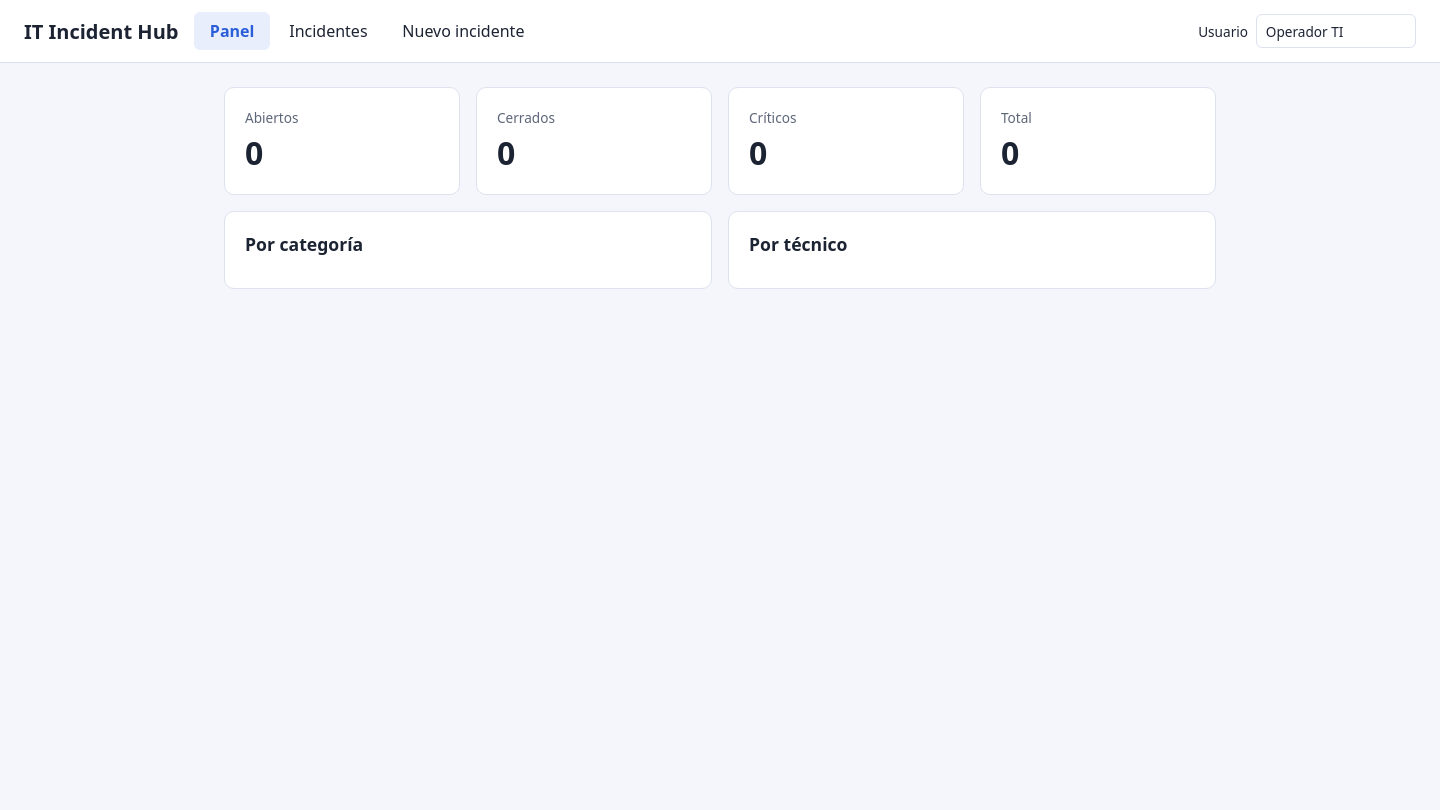
App › carga el panel y navega entre vistas
Check: the heading "IT Incident Hub" is shown, box [24,18,178,45]
Check: the text with test id "stat-open" is shown, box [245,131,263,174]
What coordinates should you click on to do the following:
click the button "Nuevo incidente"
I would click on:
 (463, 31)
Its box is [387,12,540,50].
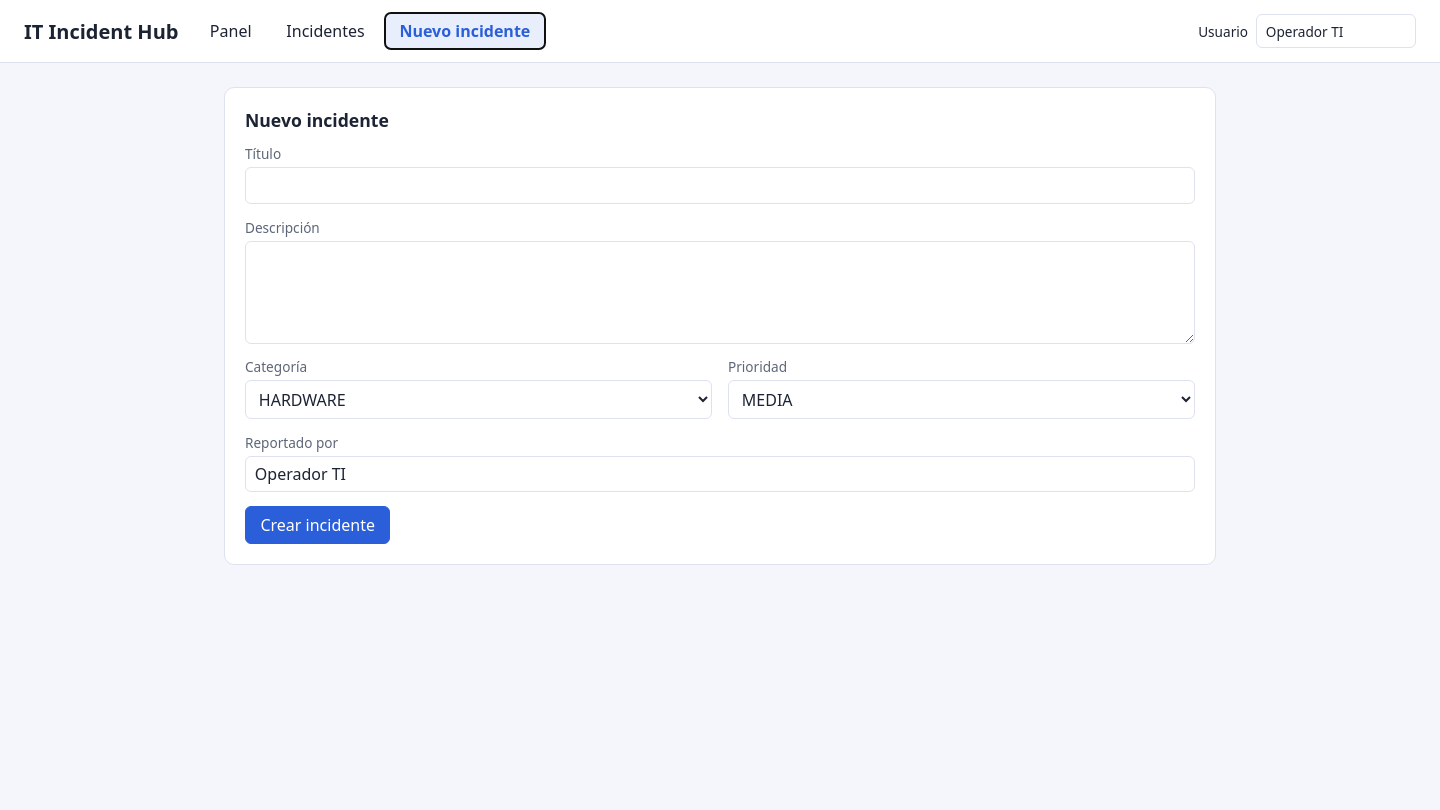
Check: the button "Crear incidente" is shown, box [245,506,390,544]
What coordinates should you click on to do the following:
click the button "Incidentes"
I would click on:
 (326, 31)
Its box is [271,12,380,50].
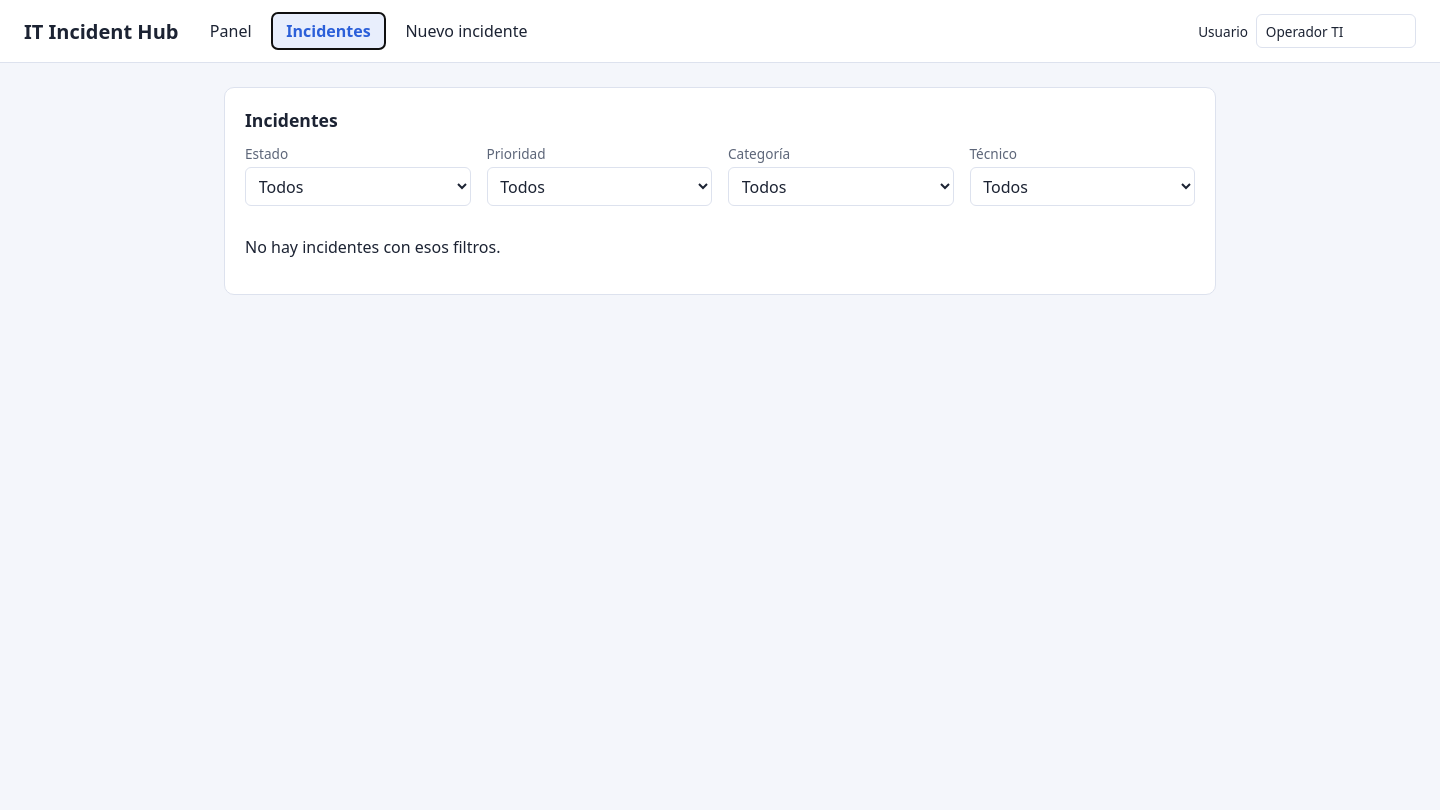
Check: the text "No hay incidentes con esos filtros." is shown, box [245,236,500,258]
